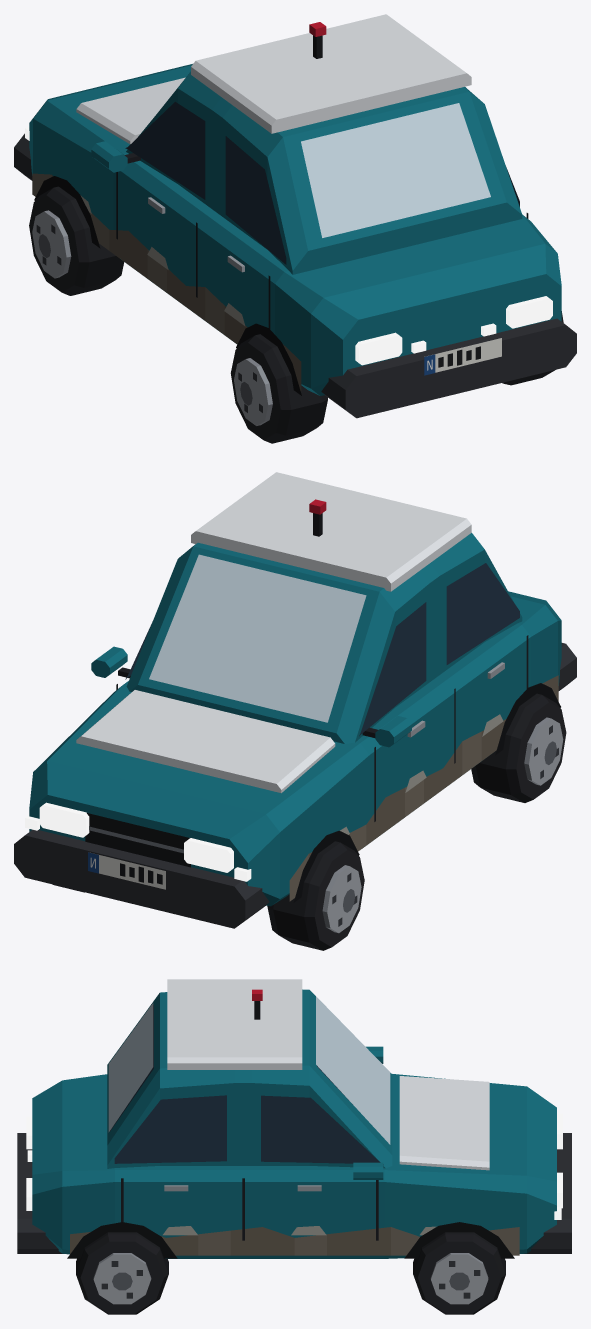
The model's file is small.glb.
3 renders of one model, top to bottom at view 1: azimuth 30°, elevation 25°; view 2: azimuth 150°, elevation 25°; view 3: azimuth 270°, elevation 25°, orthographic. The views are drawn at different scales.
Parts seen in each view (by area): view 1: body.007, wheel_RL.007, wheel_FL.007; view 2: body.007, wheel_FL.007, wheel_RL.007; view 3: body.007, wheel_FR.007, wheel_RR.007.
Boxes of the visible parts, x1,y1,x2,y2 form: body.007: (14, 14, 576, 418); wheel_RL.007: (230, 334, 327, 443); wheel_FL.007: (29, 186, 124, 295); body.007: (14, 472, 576, 928); wheel_FL.007: (267, 841, 364, 950); wheel_RL.007: (471, 693, 566, 802); body.007: (17, 979, 571, 1258); wheel_FR.007: (413, 1232, 505, 1314); wheel_RR.007: (76, 1232, 168, 1314).
Size of the model in its own units: 1.96 by 1.97 by 3.76.
